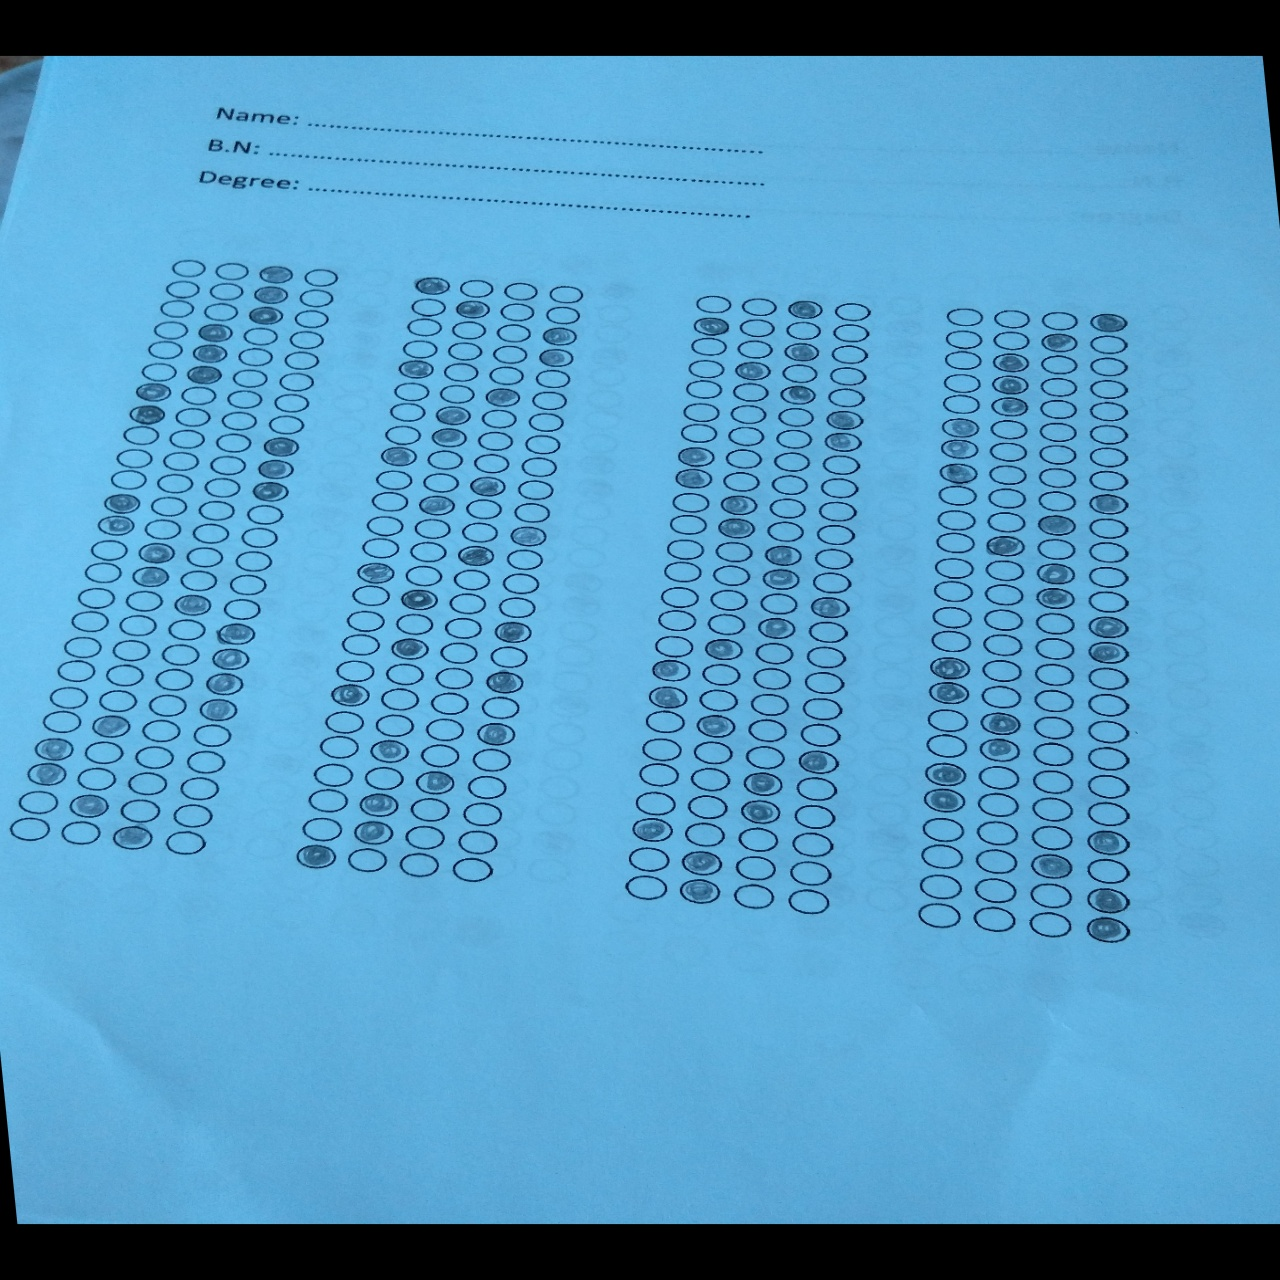not-c: (622, 874, 670, 901), (784, 888, 832, 915), (787, 859, 835, 886), (734, 825, 782, 852), (789, 831, 837, 858), (971, 877, 1019, 904), (1027, 881, 1075, 908), (729, 883, 778, 908), (731, 855, 778, 881), (920, 816, 967, 843), (1084, 858, 1131, 885), (298, 816, 343, 843), (343, 847, 389, 874), (463, 775, 509, 802), (372, 712, 417, 738), (636, 761, 682, 788), (799, 696, 845, 723), (1029, 824, 1075, 851), (973, 847, 1019, 874), (1027, 911, 1073, 938), (459, 802, 506, 828), (316, 734, 363, 760), (974, 821, 1021, 846), (915, 903, 962, 928), (971, 906, 1017, 932), (401, 824, 445, 851), (320, 708, 365, 735), (685, 794, 729, 821), (791, 803, 836, 830), (797, 721, 842, 748), (7, 816, 53, 842), (162, 830, 207, 856), (407, 797, 452, 823), (360, 765, 406, 791), (311, 762, 356, 788), (332, 658, 377, 683), (400, 563, 445, 588), (979, 658, 1024, 683), (1085, 666, 1131, 692), (1032, 687, 1077, 713), (924, 734, 969, 760), (1085, 772, 1131, 798), (919, 843, 965, 869), (918, 874, 964, 900), (627, 846, 670, 873), (304, 789, 350, 813), (468, 748, 515, 772), (450, 856, 495, 881), (417, 743, 462, 769), (433, 666, 477, 692), (349, 583, 394, 608), (634, 790, 679, 816), (794, 776, 838, 802), (747, 692, 791, 717), (683, 822, 728, 847), (1087, 692, 1131, 717), (1085, 720, 1130, 745), (57, 821, 103, 845), (15, 790, 61, 815), (396, 852, 442, 877), (421, 717, 467, 742), (477, 695, 523, 720), (427, 692, 472, 716), (338, 633, 383, 658), (448, 567, 493, 592), (1032, 662, 1077, 687), (979, 685, 1024, 709), (925, 707, 971, 731), (690, 738, 734, 764), (696, 687, 740, 713), (75, 767, 120, 791), (117, 798, 162, 823), (456, 830, 501, 855), (377, 687, 422, 712), (437, 641, 482, 666), (486, 645, 531, 669), (392, 611, 436, 635), (493, 595, 538, 620), (497, 571, 542, 595), (802, 670, 846, 695), (742, 744, 787, 769), (1030, 741, 1075, 765), (1085, 745, 1130, 770), (1032, 769, 1076, 794), (976, 765, 1021, 790), (976, 791, 1021, 816), (1029, 797, 1074, 822), (1085, 802, 1130, 826), (440, 617, 485, 640), (82, 740, 125, 764), (132, 745, 176, 770), (125, 771, 169, 796), (750, 666, 794, 690), (745, 719, 789, 743), (688, 767, 731, 791), (184, 750, 229, 774), (343, 610, 388, 633), (445, 592, 490, 615), (812, 523, 857, 546), (810, 571, 855, 594), (709, 564, 754, 587), (663, 538, 708, 561), (658, 586, 702, 610), (702, 613, 747, 636), (706, 588, 750, 612), (652, 634, 696, 658), (699, 663, 743, 687), (1032, 715, 1076, 738), (222, 597, 264, 621), (123, 588, 165, 613), (75, 585, 117, 610), (54, 658, 96, 682), (82, 561, 125, 585), (178, 777, 222, 801), (171, 804, 215, 828), (382, 662, 425, 686), (359, 537, 402, 560), (510, 501, 553, 524), (384, 401, 428, 424), (811, 547, 855, 571), (805, 620, 849, 644), (805, 645, 849, 668), (932, 557, 975, 580), (1085, 517, 1129, 540), (1087, 565, 1130, 588), (930, 606, 973, 629), (755, 592, 799, 614), (930, 580, 974, 602), (178, 568, 220, 592), (227, 572, 270, 595), (116, 613, 158, 636), (165, 617, 207, 640), (110, 639, 152, 662), (104, 663, 147, 687), (139, 719, 182, 742), (373, 468, 415, 491), (369, 490, 411, 513), (424, 448, 467, 471), (520, 434, 563, 457), (474, 429, 516, 452), (985, 510, 1027, 533), (934, 531, 976, 554), (983, 583, 1026, 606), (930, 629, 972, 653), (1034, 636, 1076, 660), (159, 450, 203, 472), (469, 451, 512, 474), (516, 456, 559, 478), (495, 300, 538, 322), (712, 540, 755, 563), (655, 610, 699, 632), (753, 642, 796, 665), (644, 710, 687, 733), (1087, 333, 1130, 355), (1036, 421, 1080, 443), (1087, 445, 1130, 468), (934, 509, 978, 531), (1034, 539, 1077, 561), (1087, 591, 1130, 613), (981, 634, 1024, 656), (1033, 613, 1076, 635), (185, 545, 226, 568), (69, 610, 110, 633), (154, 668, 195, 692), (147, 694, 188, 717), (232, 550, 274, 572), (88, 539, 130, 561), (158, 644, 200, 666), (97, 689, 139, 712), (40, 710, 82, 733), (363, 516, 406, 538), (410, 518, 452, 540), (458, 520, 501, 543), (513, 478, 556, 501), (390, 381, 433, 403), (540, 304, 583, 326), (832, 300, 874, 322), (819, 454, 862, 476), (639, 738, 683, 760), (983, 560, 1026, 583), (982, 608, 1024, 631), (113, 448, 156, 469), (139, 519, 183, 540), (418, 472, 462, 493), (381, 424, 424, 445), (433, 383, 476, 404), (476, 408, 519, 429), (523, 411, 566, 433), (443, 341, 486, 362), (491, 322, 535, 343), (779, 320, 823, 341), (734, 316, 777, 338), (734, 339, 777, 360), (687, 336, 730, 358), (682, 379, 726, 400), (728, 381, 771, 402), (774, 406, 817, 427), (768, 474, 811, 495), (816, 477, 859, 498), (762, 520, 805, 542), (661, 561, 704, 583), (944, 307, 987, 328), (1085, 356, 1129, 377), (987, 418, 1030, 440), (1087, 470, 1130, 491), (61, 635, 102, 658), (48, 687, 89, 709), (191, 724, 232, 747), (990, 308, 1032, 331), (108, 469, 150, 490), (199, 477, 241, 498), (244, 504, 286, 525), (148, 496, 190, 517), (238, 527, 280, 549), (461, 498, 503, 519), (530, 368, 572, 389), (485, 365, 527, 386), (399, 339, 441, 360), (488, 343, 530, 365), (447, 320, 489, 341), (403, 316, 445, 338), (407, 297, 449, 318), (455, 278, 497, 299), (499, 280, 542, 301), (692, 294, 734, 315), (685, 358, 727, 379), (778, 362, 821, 383), (829, 343, 871, 365), (727, 404, 769, 425), (771, 451, 813, 472), (817, 501, 859, 522), (765, 498, 808, 519), (669, 492, 712, 513), (666, 515, 708, 536), (1039, 309, 1081, 331), (944, 329, 986, 350), (941, 349, 983, 370), (941, 373, 983, 394), (939, 394, 981, 415), (1037, 376, 1080, 397), (1088, 379, 1130, 400), (1088, 401, 1130, 422), (987, 441, 1029, 462), (935, 484, 978, 505), (1036, 445, 1078, 467), (1037, 467, 1080, 488), (1087, 542, 1129, 563), (504, 549, 544, 571), (207, 455, 248, 476), (154, 472, 195, 493), (195, 499, 236, 520), (190, 522, 231, 543), (527, 390, 568, 411), (440, 362, 481, 383), (545, 284, 586, 305), (831, 322, 872, 343), (828, 366, 869, 387), (826, 388, 867, 409), (679, 402, 720, 423), (678, 422, 719, 443), (772, 428, 813, 449), (722, 448, 763, 469), (720, 471, 761, 492), (1039, 354, 1080, 375), (987, 465, 1028, 486), (987, 488, 1028, 509), (1036, 490, 1077, 511), (736, 297, 779, 316), (1036, 399, 1080, 418), (211, 261, 251, 282), (301, 267, 341, 288), (200, 301, 240, 322), (271, 393, 311, 414), (224, 389, 264, 410), (239, 326, 279, 347), (150, 320, 190, 341), (990, 331, 1033, 350), (1087, 425, 1129, 445), (724, 425, 765, 445), (169, 258, 207, 279), (292, 309, 331, 331), (287, 329, 326, 350), (282, 350, 321, 372), (219, 411, 258, 433), (230, 368, 268, 389), (236, 346, 274, 367), (178, 384, 217, 406), (215, 433, 253, 454), (408, 540, 447, 561), (266, 415, 306, 435), (121, 425, 161, 445), (168, 428, 207, 448), (163, 279, 200, 300), (297, 288, 335, 308), (206, 281, 245, 301), (277, 372, 315, 392), (145, 340, 184, 360), (139, 362, 178, 382), (173, 406, 212, 425), (158, 299, 196, 319)
taken-c: (1083, 886, 1133, 915), (1027, 851, 1077, 879), (1084, 917, 1135, 944), (1083, 829, 1133, 856), (920, 787, 971, 813), (919, 761, 971, 787), (922, 679, 972, 704), (974, 738, 1024, 763), (974, 710, 1024, 735), (924, 655, 974, 680), (1083, 639, 1133, 663), (384, 636, 433, 662), (1032, 561, 1080, 587), (64, 794, 111, 819), (108, 825, 155, 851), (355, 794, 402, 819), (23, 761, 69, 787), (293, 843, 339, 869), (366, 738, 411, 764), (482, 669, 527, 695), (678, 849, 723, 874), (349, 821, 396, 845), (1033, 513, 1080, 538), (934, 462, 981, 486), (937, 415, 983, 440), (741, 771, 785, 797), (676, 878, 721, 904), (474, 723, 519, 748), (326, 683, 372, 708), (399, 588, 444, 613), (693, 714, 738, 738), (937, 436, 982, 461), (738, 799, 782, 825), (629, 817, 673, 843), (411, 770, 458, 794), (1085, 615, 1132, 639), (1032, 587, 1078, 611), (982, 533, 1029, 557), (1085, 493, 1132, 517), (1085, 312, 1132, 335), (353, 561, 397, 586), (455, 543, 499, 567), (648, 659, 693, 683), (489, 621, 535, 645), (808, 595, 853, 619), (754, 617, 799, 640), (700, 636, 745, 660), (645, 685, 690, 708), (795, 750, 840, 774), (209, 647, 252, 672), (89, 714, 132, 738), (985, 396, 1032, 418), (1035, 331, 1082, 353), (205, 672, 247, 696), (987, 373, 1033, 395), (988, 352, 1034, 374), (216, 622, 259, 646), (506, 525, 550, 549), (414, 493, 457, 517), (464, 475, 508, 498), (195, 697, 237, 721), (428, 425, 470, 449), (481, 386, 523, 409), (395, 359, 436, 382), (95, 515, 137, 537), (134, 542, 176, 564), (171, 594, 213, 617), (33, 738, 75, 761), (431, 404, 474, 427), (535, 347, 577, 369), (539, 326, 581, 348), (676, 445, 719, 468), (715, 518, 757, 540), (761, 544, 803, 566), (248, 284, 290, 306), (129, 565, 170, 587), (454, 298, 495, 320), (784, 299, 825, 321), (690, 314, 731, 336), (731, 360, 772, 382), (825, 410, 866, 433), (672, 468, 713, 490), (716, 493, 757, 516), (254, 263, 297, 284), (376, 445, 418, 467), (781, 341, 823, 362), (776, 384, 818, 406), (821, 431, 863, 452), (245, 304, 286, 325), (195, 321, 236, 342), (189, 343, 230, 365), (259, 436, 300, 457), (256, 459, 297, 481), (248, 481, 290, 502), (102, 493, 143, 515), (411, 275, 452, 297), (760, 568, 801, 590), (132, 382, 172, 403), (127, 404, 166, 425), (184, 365, 224, 384)
